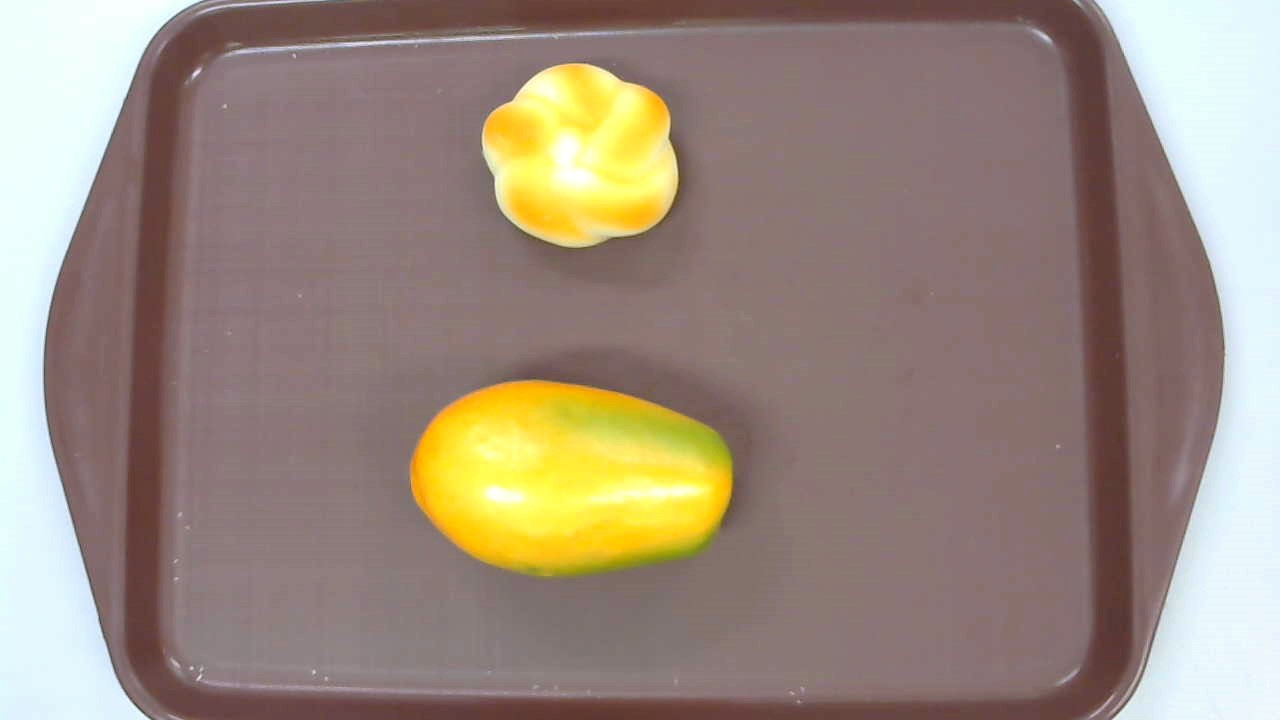papya: (408, 379, 734, 578)
twist bread: (481, 63, 680, 247)
